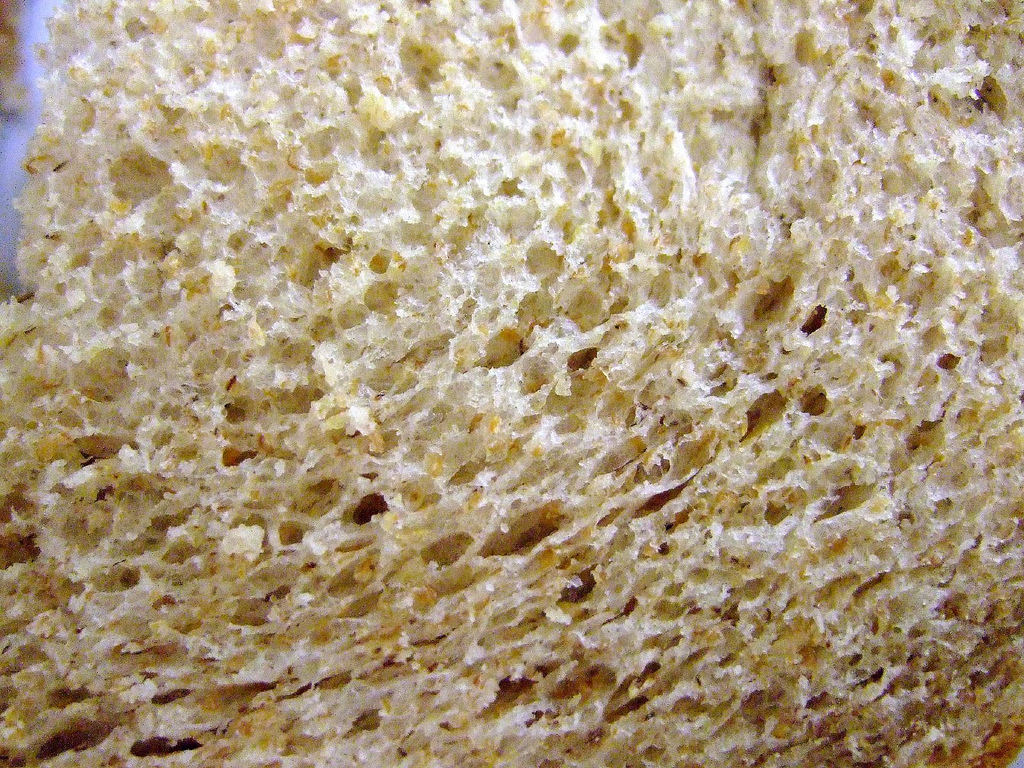slice of bread: (49, 18, 1015, 768)
